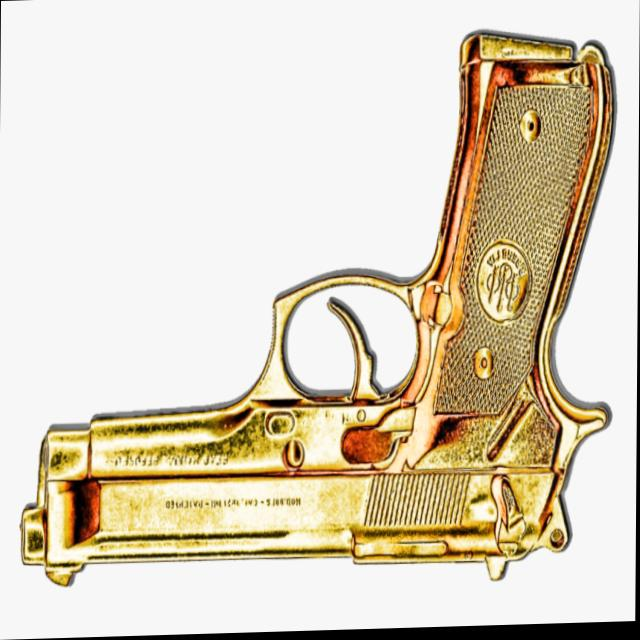handgun: (6, 47, 619, 590)
